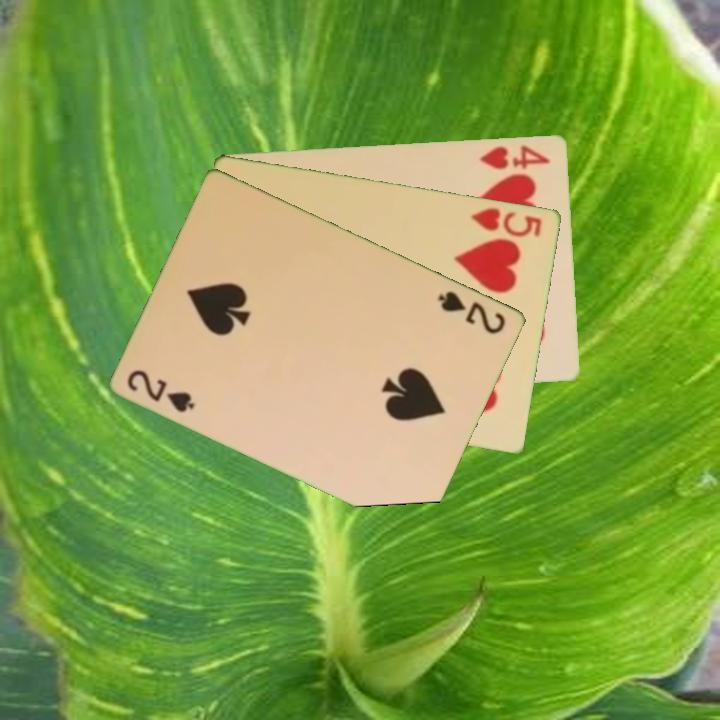2s: (435, 287, 510, 337), (124, 365, 199, 415)
4h: (477, 141, 554, 172)
5h: (467, 204, 545, 240)
